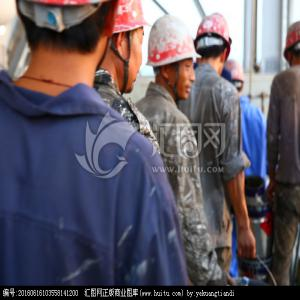red: (100, 2, 147, 96), (148, 13, 197, 102), (197, 14, 234, 72), (283, 21, 300, 71), (224, 61, 244, 96)
